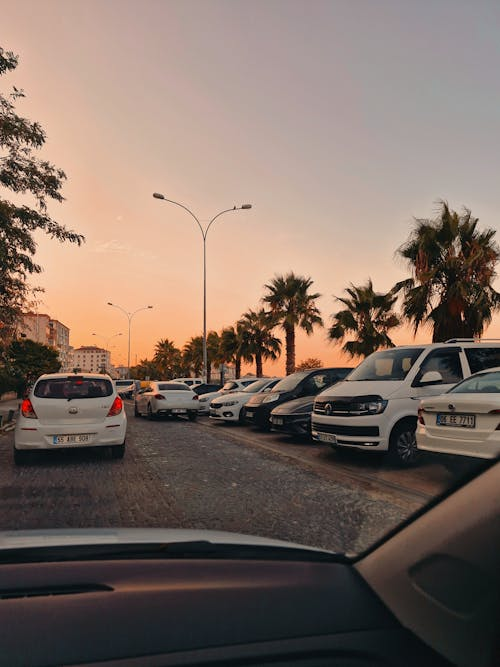other: (313, 340, 500, 470), (16, 372, 130, 461), (420, 373, 500, 470), (135, 381, 205, 417), (265, 391, 317, 439)
